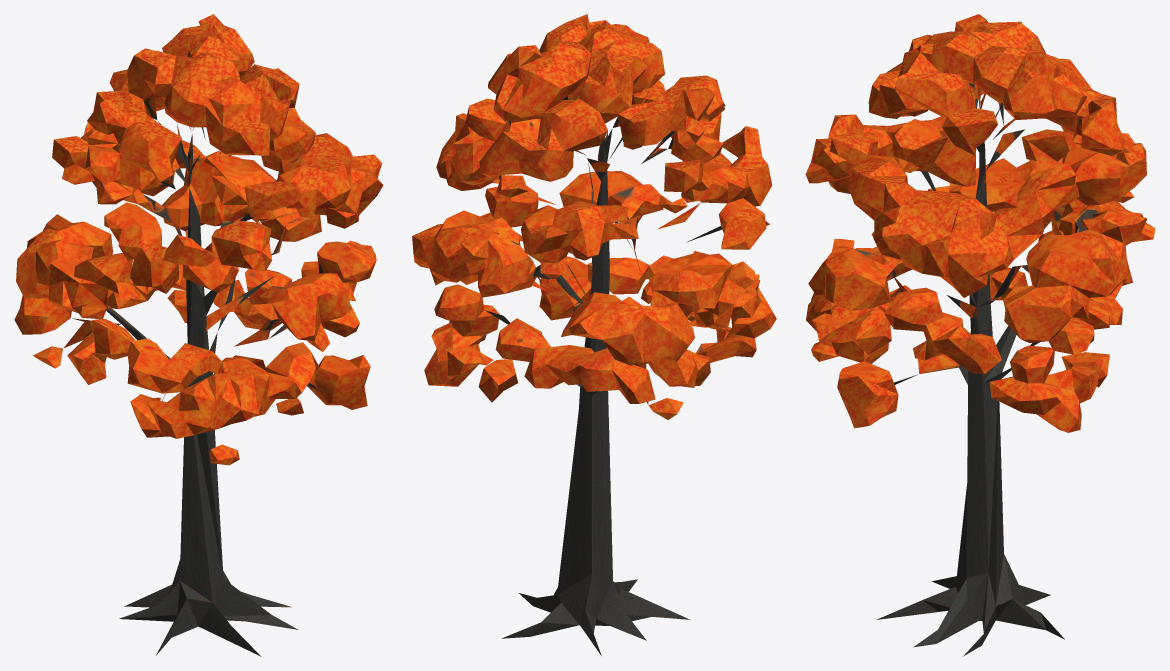
The model's file is tree_leaf_autumn.glb.
3 renders of one model, left to right at view 1: azimuth 30°, elevation 25°; view 2: azimuth 150°, elevation 25°; view 3: azimuth 270°, elevation 25°, orthographic. The views are drawn at different scales.
Bounding box in the file's own units: 1.03 × 1.89 × 1.03.
1 material, 1 textured.
